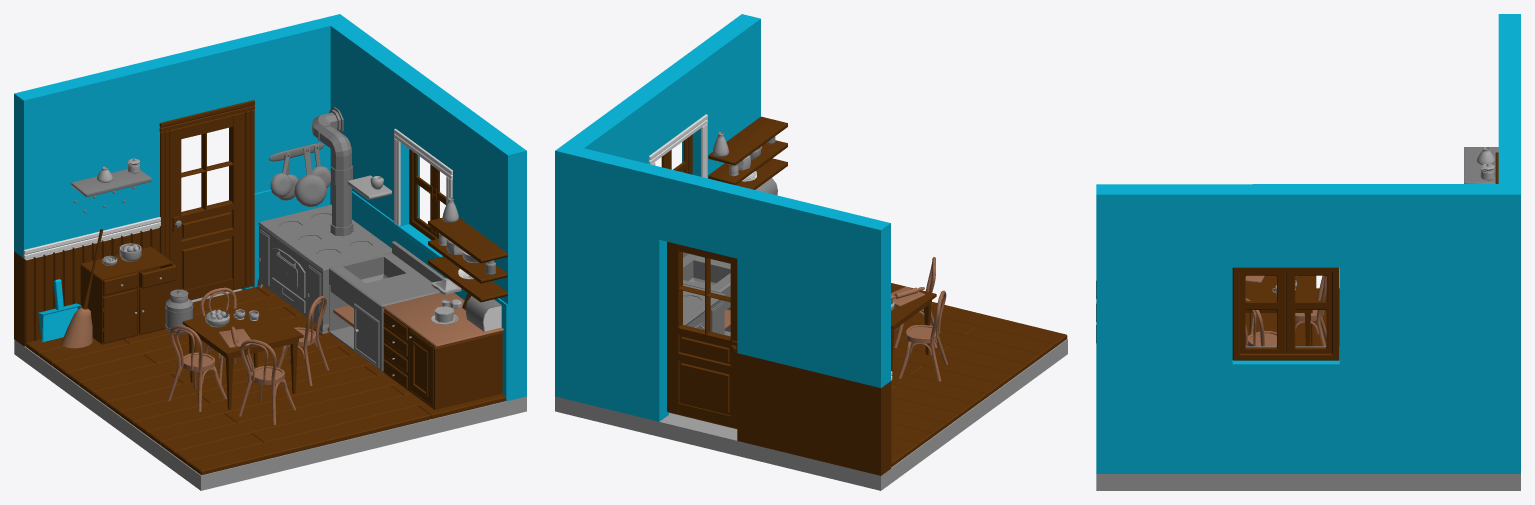
File: Level_02 1.fbx
3 views of the same model, side by side, from view 1: azimuth 30°, elevation 25°; view 2: azimuth 150°, elevation 25°; view 3: azimuth 270°, elevation 25° (orthographic). The views are drawn at different scales.
Parts seen in each view (by area): view 1: Wall-L, Box043, Object003, Box016, cupboard, Door002, Ground001, Box004, drawer1_Object004, Chair001, Box014, ChamferBox004 (+11 smaller); view 2: Wall-L, Object003, Box043, Door002, Ground001, ChamferBox004, Chair001, Box004, Box016, polySurface1, group2_Object004, Box018; view 3: Object003, Ground001, Box018, Wall-L, polySurface1, Chair001, Box043, ChamferBox006.
Part boxes in pixels (x1=…): Wall-L: x1=14, y1=18, x2=330, y2=346; Box043: x1=26, y1=285, x2=506, y2=475; Object003: x1=321, y1=14, x2=526, y2=401; Box016: x1=257, y1=107, x2=391, y2=334; cupboard: x1=383, y1=292, x2=503, y2=409; Door002: x1=169, y1=112, x2=244, y2=300; Ground001: x1=14, y1=288, x2=526, y2=490; Box004: x1=329, y1=241, x2=445, y2=370; drawer1_Object004: x1=80, y1=246, x2=176, y2=344; Chair001: x1=167, y1=287, x2=328, y2=424; Box014: x1=159, y1=100, x2=254, y2=287; ChamferBox004: x1=428, y1=217, x2=507, y2=302; Wall-L: x1=574, y1=148, x2=891, y2=475; Object003: x1=555, y1=14, x2=760, y2=400; Box043: x1=679, y1=302, x2=1067, y2=466; Door002: x1=667, y1=241, x2=737, y2=428; Ground001: x1=555, y1=339, x2=1067, y2=490; ChamferBox004: x1=708, y1=116, x2=787, y2=189; Chair001: x1=894, y1=257, x2=947, y2=381; Box004: x1=683, y1=252, x2=730, y2=336; Box016: x1=683, y1=284, x2=725, y2=334; polySurface1: x1=891, y1=283, x2=936, y2=381; group2_Object004: x1=648, y1=114, x2=707, y2=178; Box018: x1=661, y1=134, x2=692, y2=174; Object003: x1=1096, y1=184, x2=1520, y2=473; Ground001: x1=1096, y1=474, x2=1520, y2=490; Box018: x1=1232, y1=267, x2=1339, y2=360; Wall-L: x1=1498, y1=14, x2=1520, y2=183; polySurface1: x1=1245, y1=275, x2=1316, y2=346; Chair001: x1=1245, y1=275, x2=1326, y2=346; Box043: x1=1245, y1=288, x2=1339, y2=346; ChamferBox006: x1=1464, y1=147, x2=1498, y2=183.
Bounding box in the file's own units: 426 × 325 × 422.
